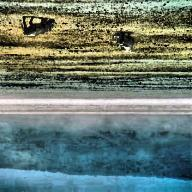boar: (104, 30, 140, 65), (23, 12, 63, 41)
